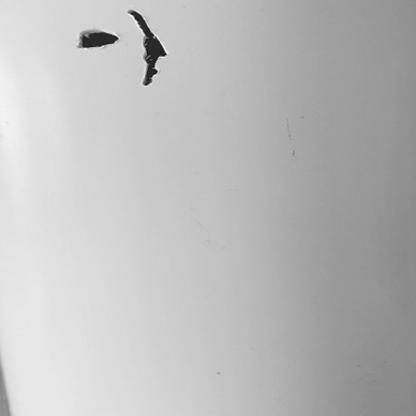kongdong: (125, 11, 169, 88), (72, 28, 120, 49)
